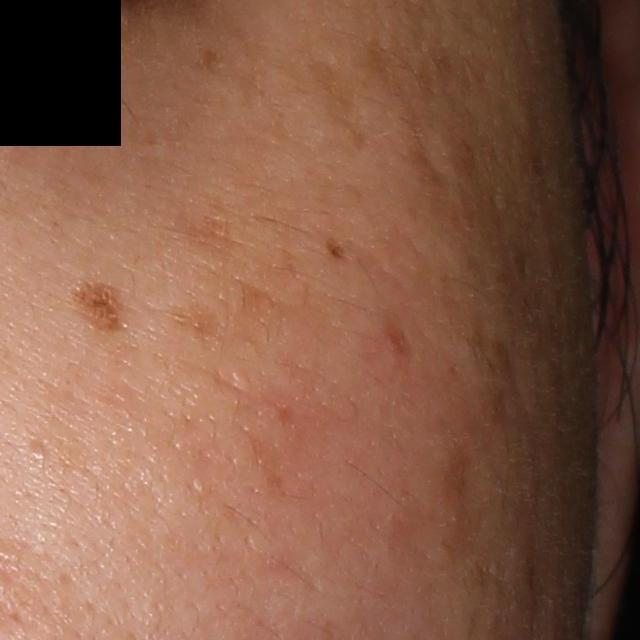melasma: (348, 32, 469, 231), (309, 57, 368, 153), (180, 210, 239, 265), (157, 299, 226, 343), (190, 39, 224, 82), (323, 237, 348, 258)
